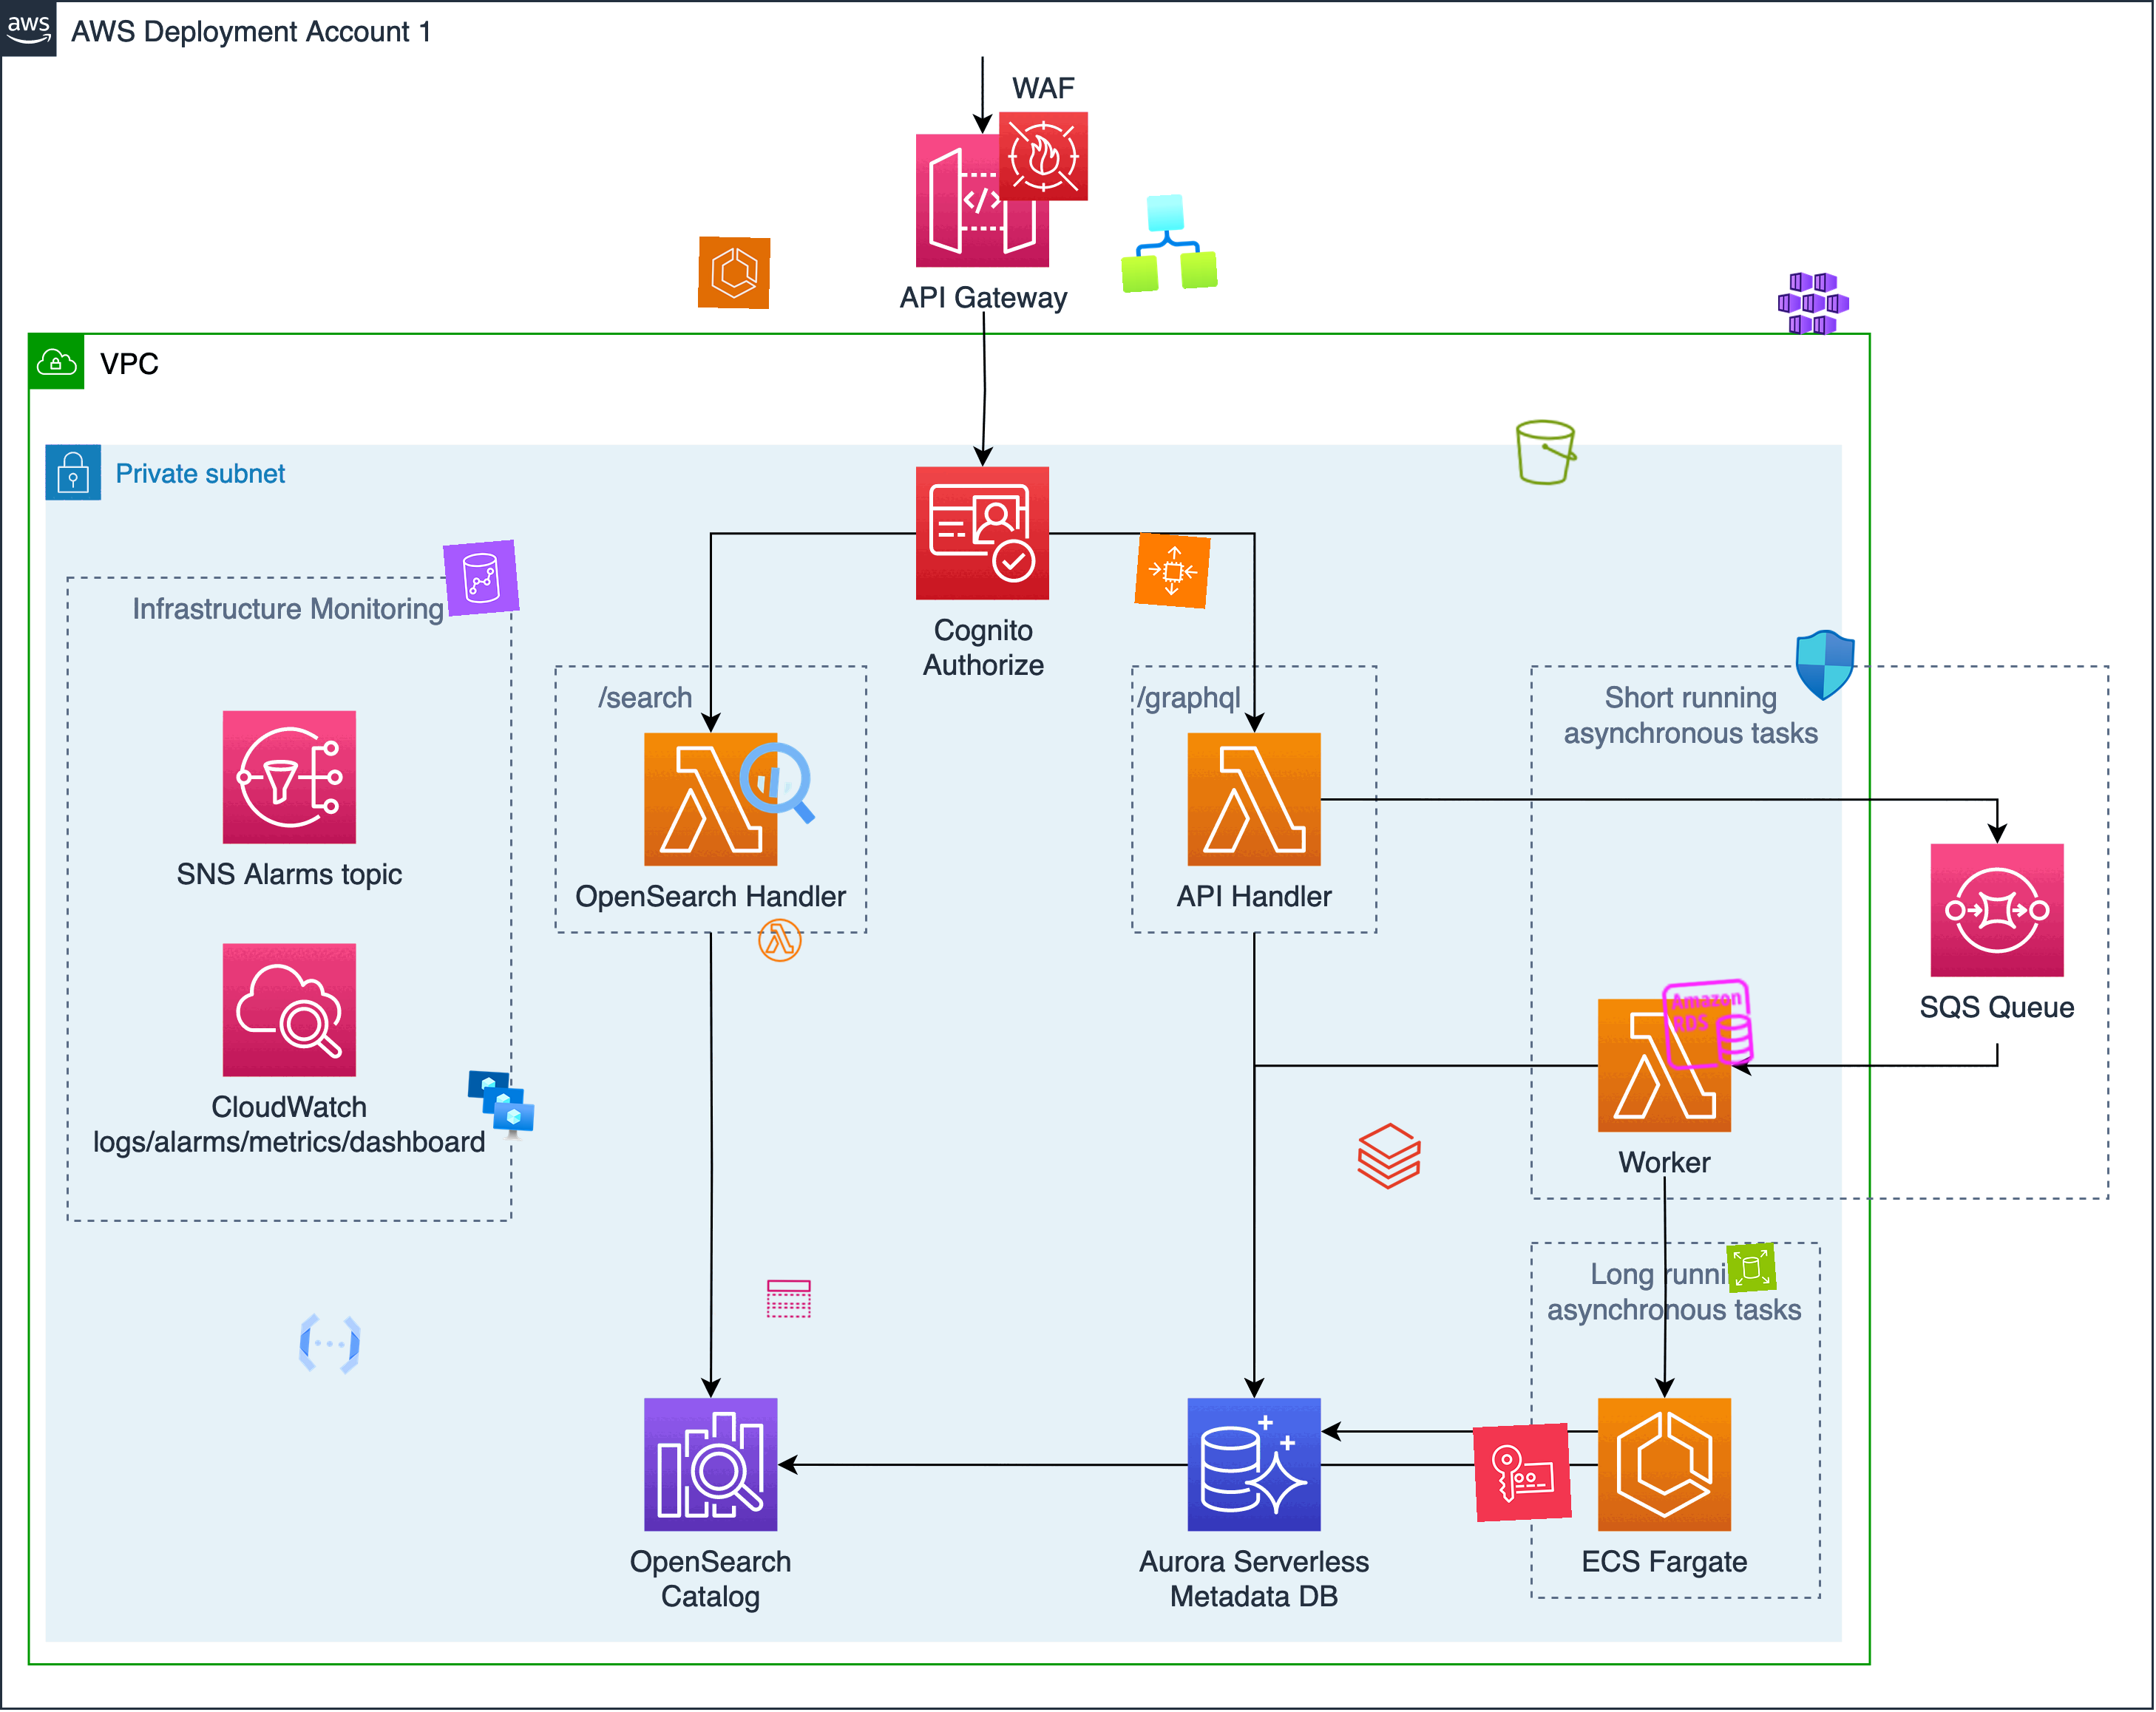aws_amazon_ec2_auto_scaling: (1134, 532, 1211, 609)
aws_amazon_elastic_block_store: (1726, 1242, 1778, 1294)
aws_amazon_elastic_container_service: (696, 236, 772, 310)
aws_amazon_redshift: (443, 540, 520, 617)
aws_aurora_amazon_rds_instance: (1657, 974, 1759, 1075)
aws_key_management_service: (1474, 1423, 1572, 1521)
aws_lambda_lambda_function: (756, 916, 805, 965)
aws_simple_notification_service_topic: (765, 1275, 814, 1324)
aws_simple_storage_service_s3_standard: (1509, 414, 1584, 490)
azure_databricks: (1353, 1119, 1426, 1193)
azure_kubernetes_services: (1778, 268, 1850, 339)
azure_logic_apps: (1116, 191, 1218, 294)
azure_network_security_groups: (1787, 628, 1862, 703)
azure_vm_scale_sets: (462, 1067, 537, 1142)
gcp_bigquery: (726, 731, 829, 834)
gcp_cloud_functions: (291, 1306, 367, 1381)
